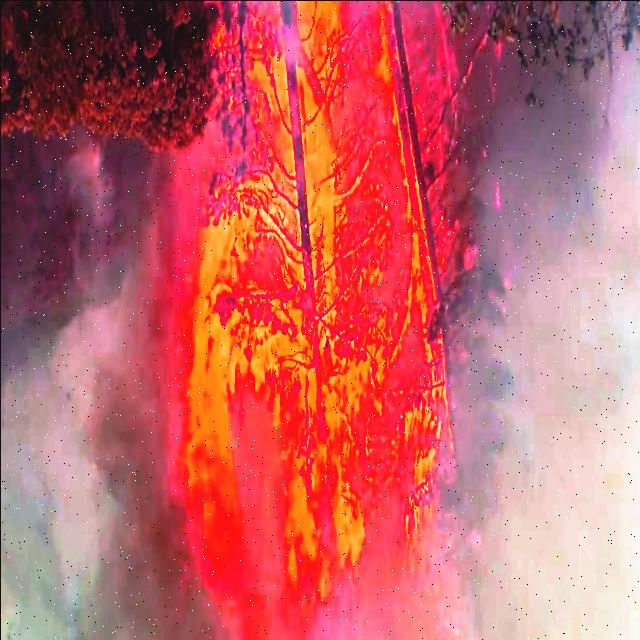api: (166, 1, 511, 635)
asap: (63, 136, 219, 640)
